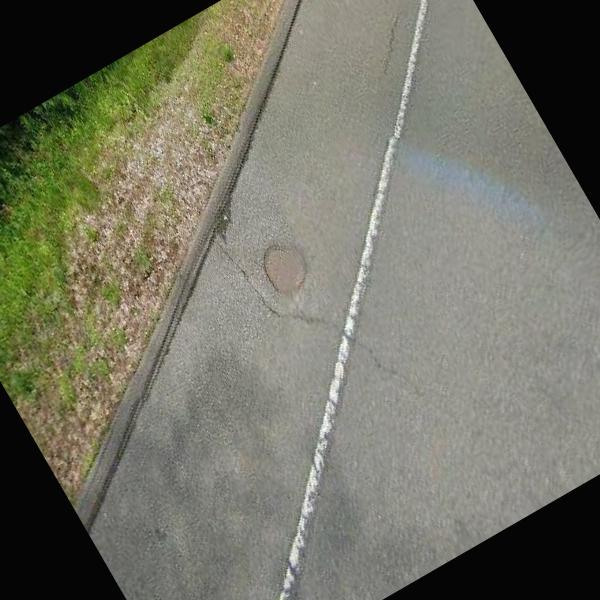manhole: (231, 210, 334, 326)
